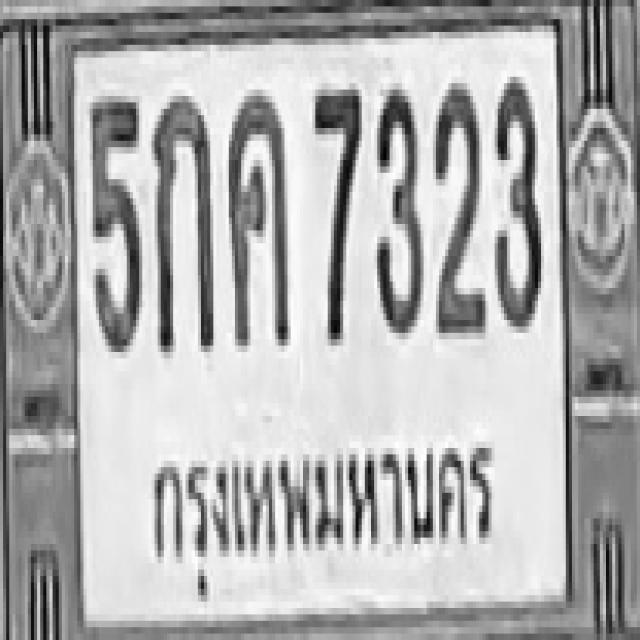10GorGai: (152, 90, 214, 346)
13KhorKhwai: (225, 90, 288, 339)
2: (431, 77, 481, 333)
3: (374, 83, 421, 333), (492, 74, 538, 323)
5: (90, 93, 139, 349)
7: (312, 83, 359, 339)
Bangkok: (140, 436, 498, 602)
